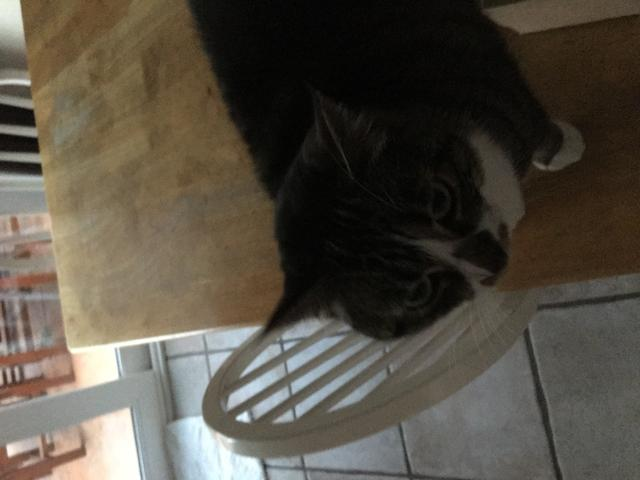playdoh: (191, 2, 585, 342)
